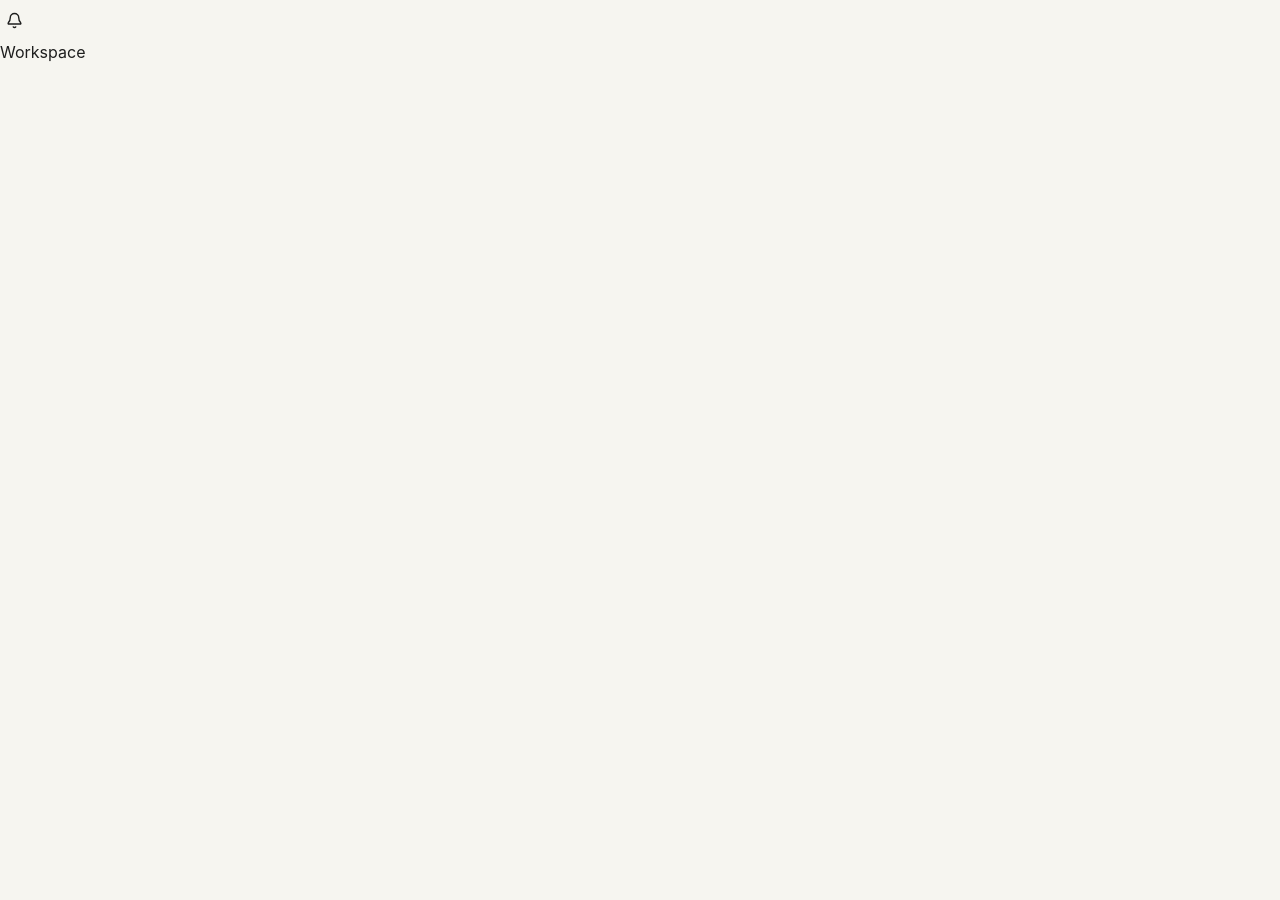
Test: optimistically reads beside the bell then rolls back badge and row on failed persistence
This screenshot has width=1280, height=900.
Click the button named "Thông báo (3 chưa đọc)" at (20,20), box x1=0 y1=0 x2=40 y2=40
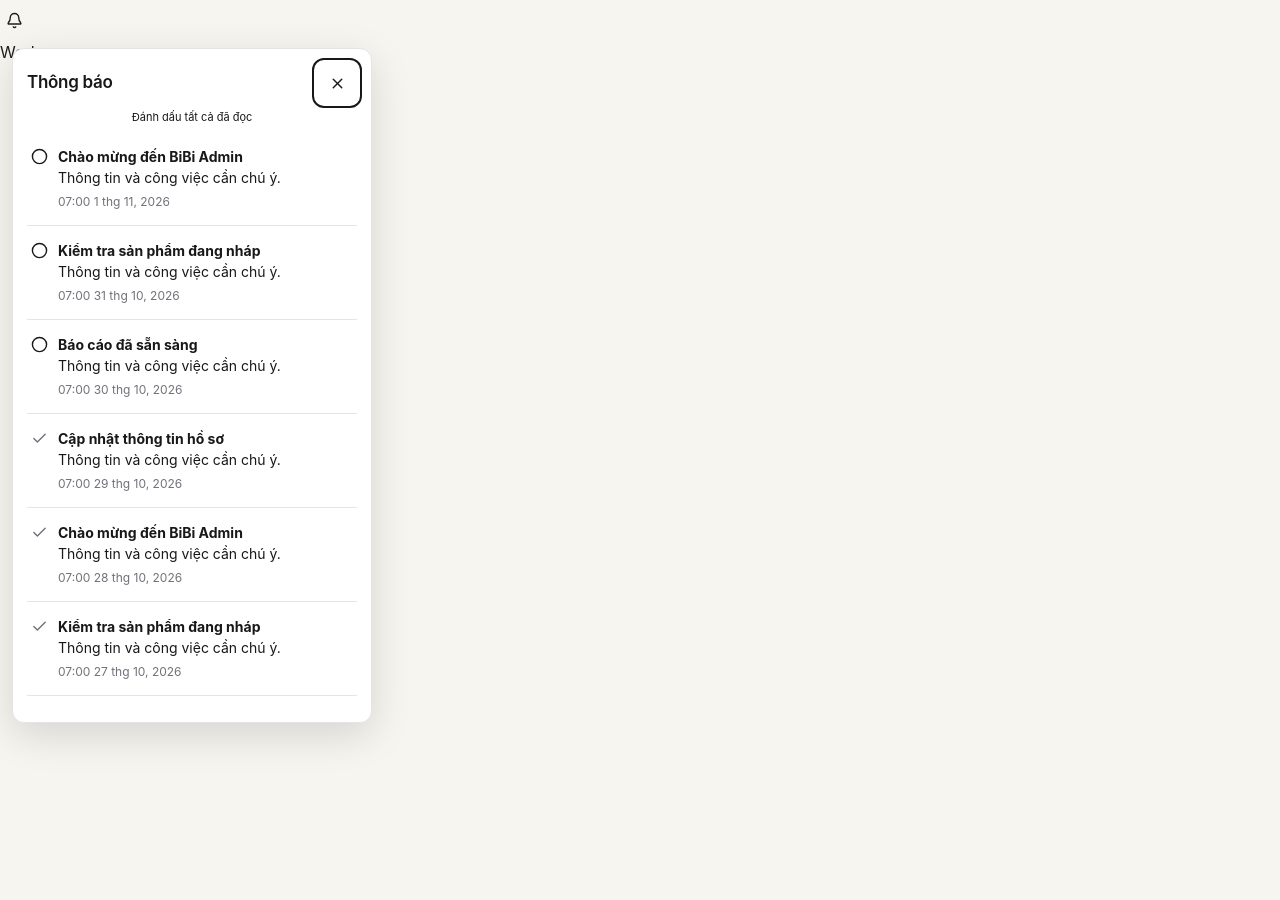
Check: the dialog "Thông báo" is shown, box x1=12 y1=48 x2=372 y2=723
Click the button with aria-label "Chưa đọc: Chào mừng đến BiBi Admin" at (192,179), box x1=27 y1=132 x2=357 y2=226
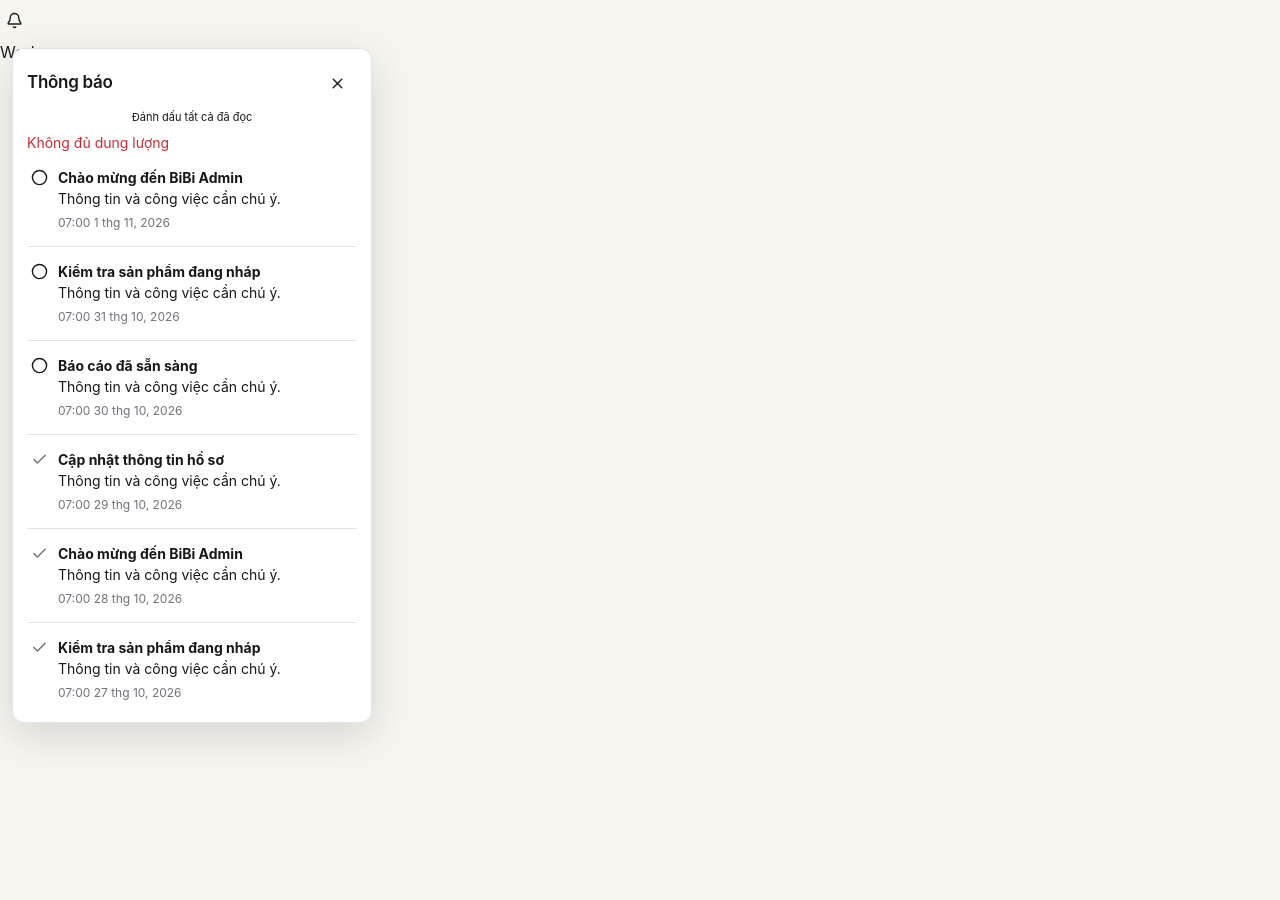
Check: the button named "Thông báo (3 chưa đọc)" is shown, box x1=0 y1=0 x2=40 y2=40
Check: the button with aria-label "Chưa đọc: Chào mừng đến BiBi Admin" is shown, box x1=27 y1=153 x2=357 y2=247
Check: the text "Không đủ dung lượng" is shown, box x1=27 y1=134 x2=169 y2=151
